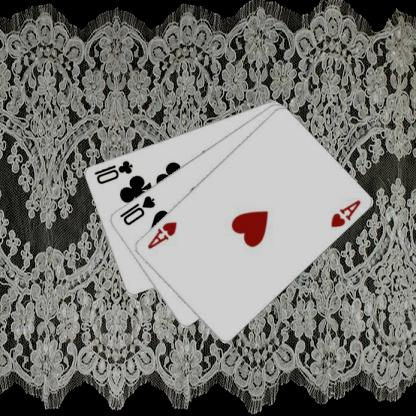10C: (93, 158, 135, 185)
10S: (118, 193, 158, 227)
AH: (329, 197, 363, 229), (146, 219, 180, 250)
